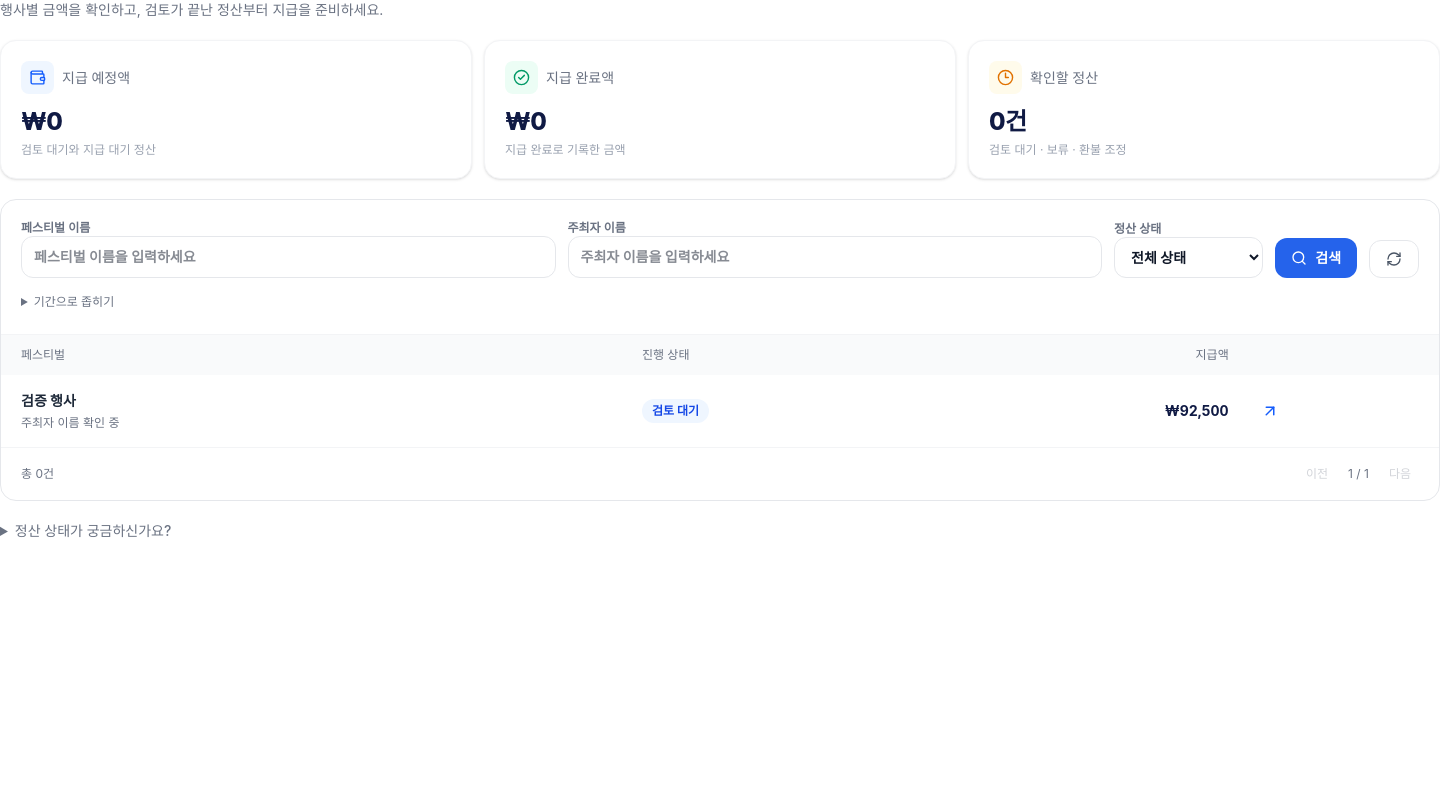
it: SettlementReport › offers reapproval only before payout
Click the button named "검증 행사 상세".
click(1270, 411)  # box 1253,394 -> 1287,428
(page scrolled)
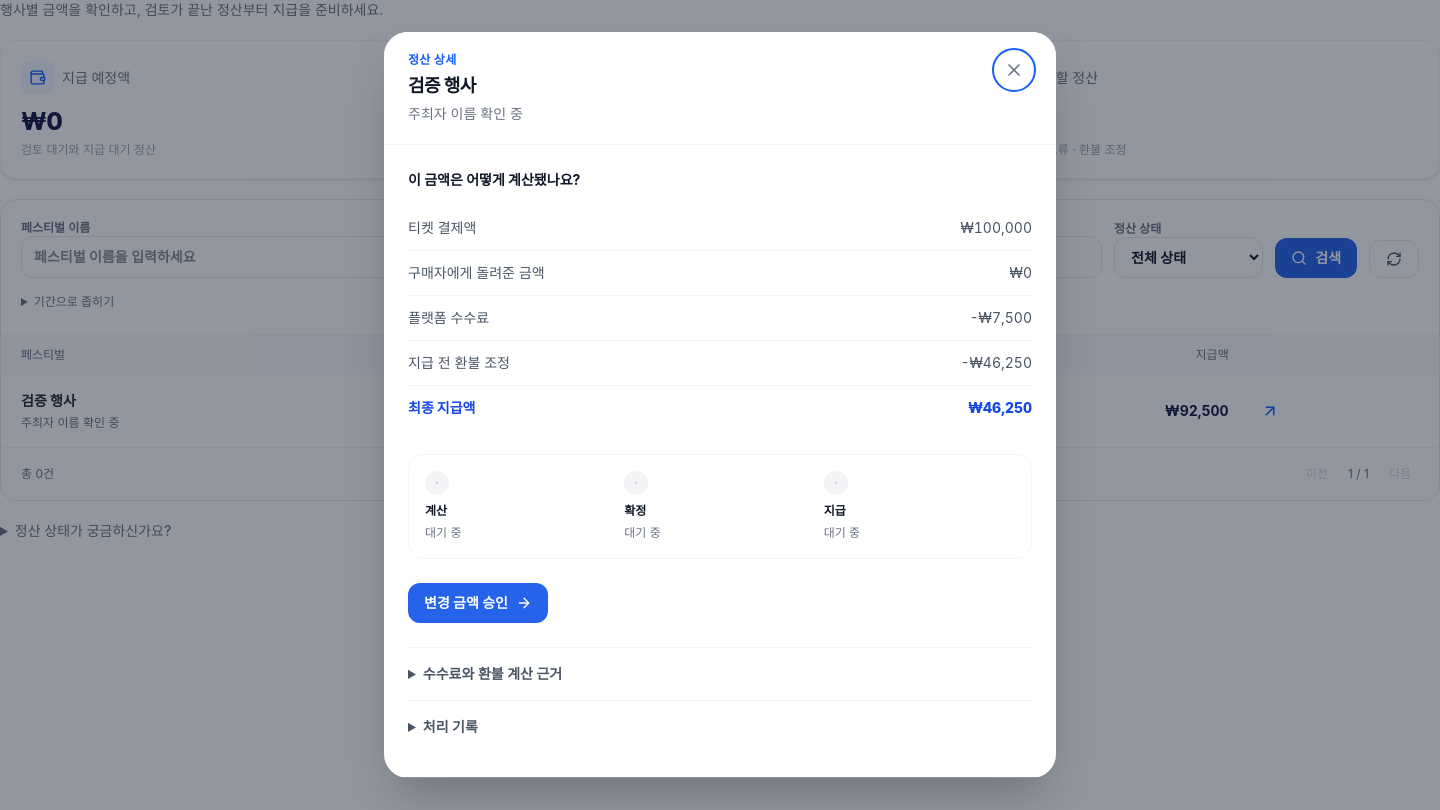
Check: the button "변경 금액 승인" is shown, box 408,583 -> 548,623
